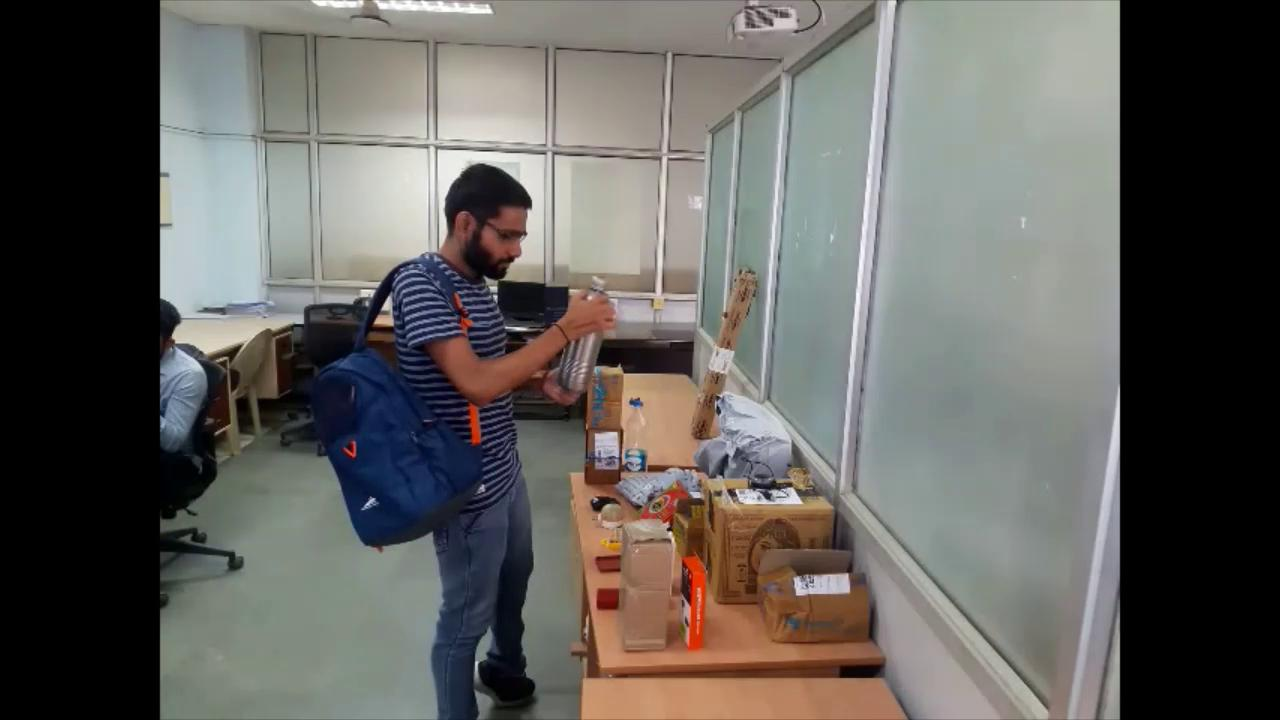Normal: (304, 159, 621, 720)
